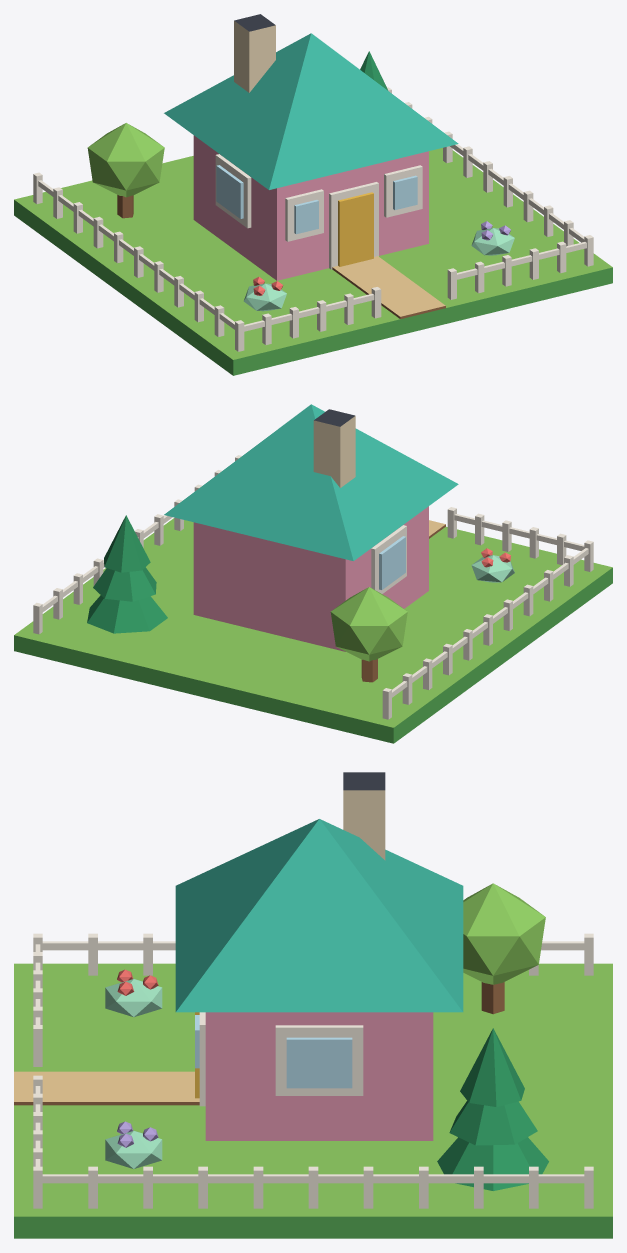
The model's file is house_cottage.glb.
3 renders of one model, top to bottom at view 1: azimuth 30°, elevation 25°; view 2: azimuth 150°, elevation 25°; view 3: azimuth 270°, elevation 25°, orthographic. The views are drawn at different scales.
Visible parts, largest first — view 1: house_cottage; view 2: house_cottage; view 3: house_cottage.
Boxes of the visible parts, bbox=[...] form: house_cottage: bbox=[14, 14, 612, 375]; house_cottage: bbox=[14, 404, 612, 743]; house_cottage: bbox=[14, 772, 612, 1238].
Bounding box in the file's own units: 1 × 0.56 × 1.
